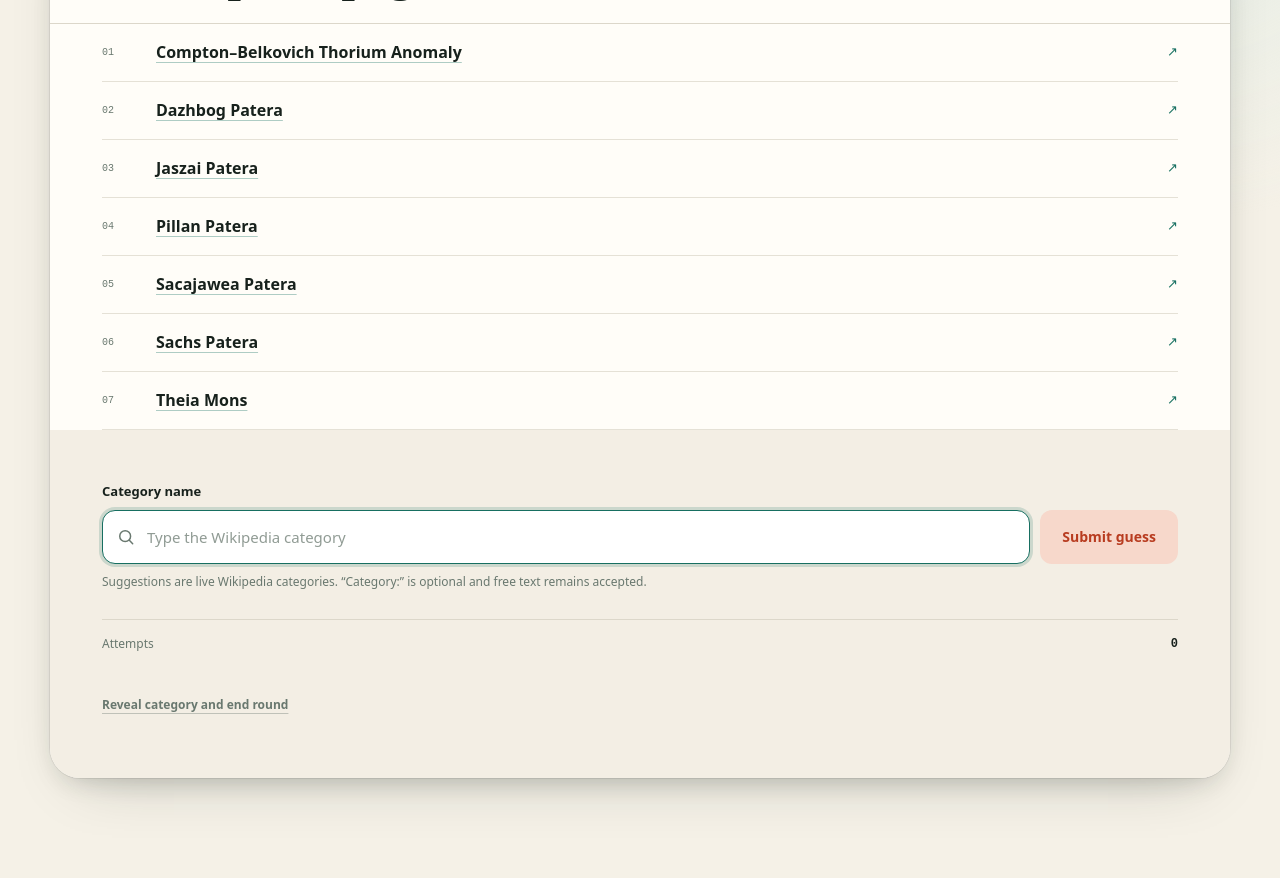
Test case: Arcade › reveals only when the player explicitly ends the round
(page scrolled)
Check: the dropdown labelled "Category name" is shown, box [102,510,1030,564]
Step 1. Click the button "Reveal category and end round" → (195, 704), box [102,682,288,726]
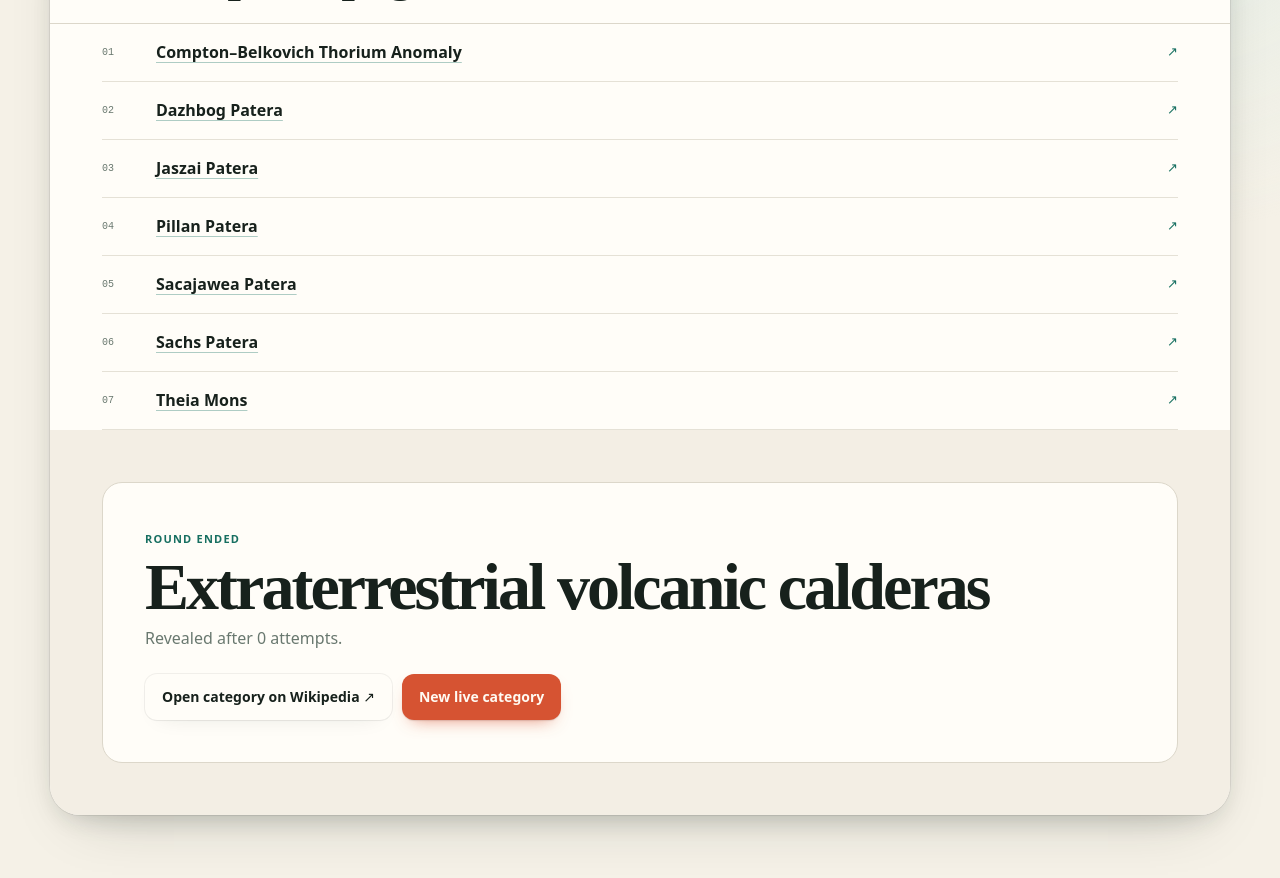
Check: the heading "Extraterrestrial volcanic calderas" is shown, box [145,555,1135,618]
Check: the text "Revealed after 0 attempts." is shown, box [145,627,342,649]
